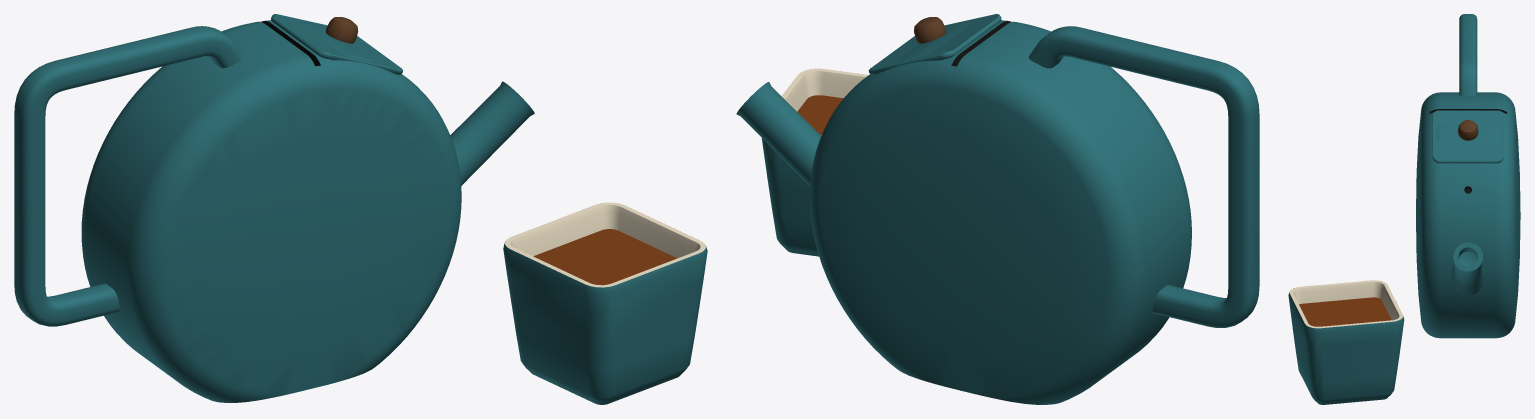
File: tea-set.glb
The picture shows the model from 3 angles, left to right: view 1: azimuth 30°, elevation 25°; view 2: azimuth 150°, elevation 25°; view 3: azimuth 270°, elevation 25°; orthographic projection. The views are drawn at different scales.
Visible parts, largest first — view 1: teapot, cup, tea, knob; view 2: teapot, cup, tea, knob; view 3: teapot, cup, tea, knob.
Part boxes in pixels (x1,y1,x2,y2): teapot: [81, 20, 461, 402]; cup: [14, 14, 707, 404]; tea: [533, 229, 676, 285]; knob: [326, 17, 358, 43]; teapot: [810, 20, 1191, 404]; cup: [736, 14, 1259, 327]; tea: [797, 95, 843, 135]; knob: [914, 17, 946, 43]; teapot: [1416, 92, 1520, 338]; cup: [1288, 14, 1503, 404]; tea: [1299, 297, 1391, 326]; knob: [1458, 120, 1478, 140].
Size of the model in its own units: 0.2974 by 0.175 by 0.1619.
